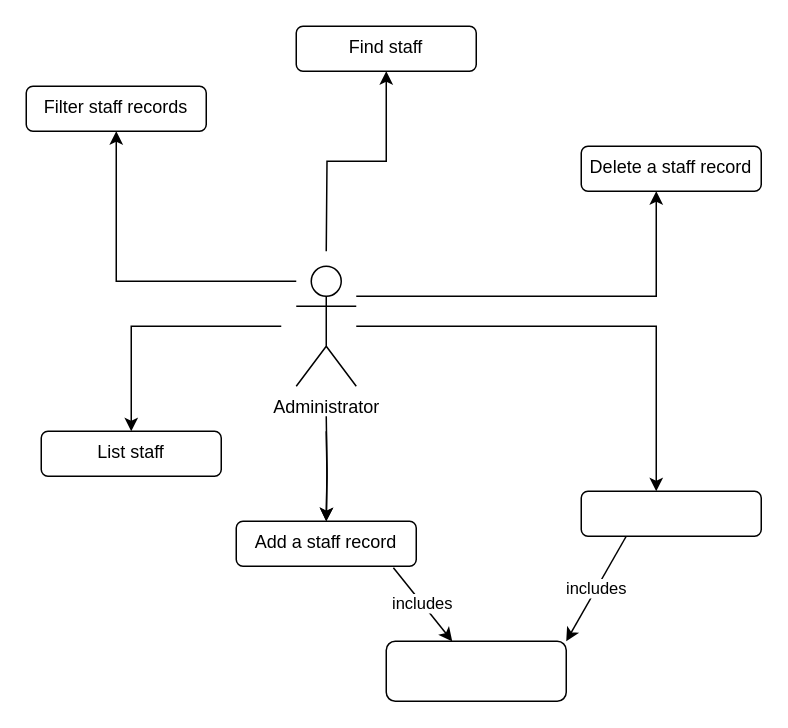
This 788x728 diagram has some shape labels left out. The shapes that lost their labels are listed below. From the top down, each one's centre as x and y in pixels, then its label:
point (670, 513): Edit a staff record
point (475, 670): Validation of the record
